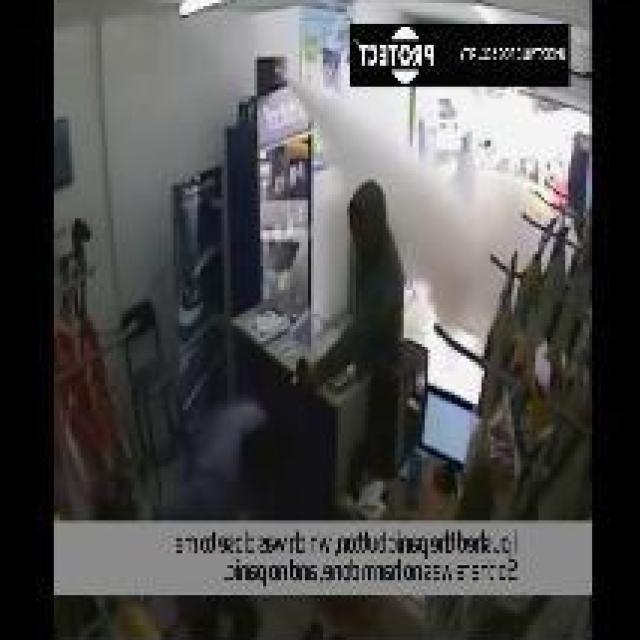fire: (393, 164, 552, 329)
